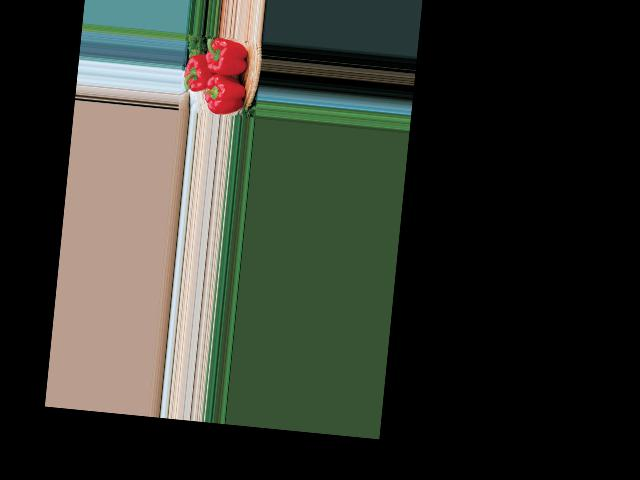bell_pepper: (203, 37, 254, 82)
